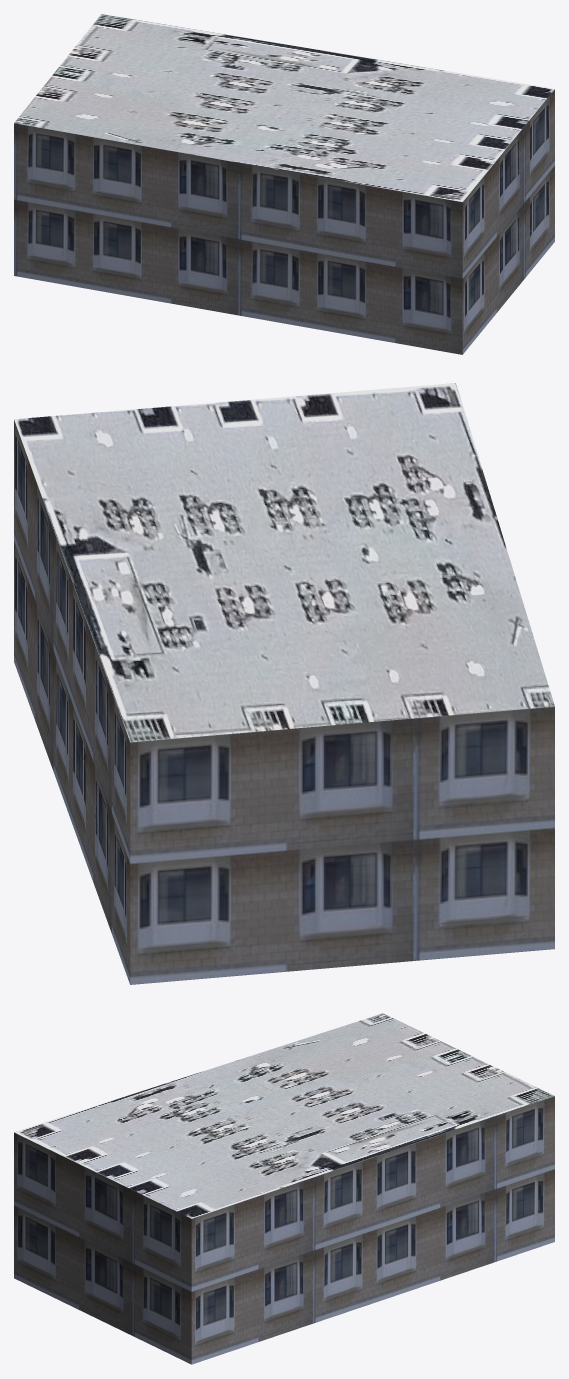
File: ResTex__1581.fbx
3 renders of one model, top to bottom at view 1: azimuth 30°, elevation 25°; view 2: azimuth 150°, elevation 25°; view 3: azimuth 270°, elevation 25°, orthographic. The views are drawn at different scales.
Parts seen in each view (by area): view 1: CityEngineMaterial_3_m, CityEngineMaterial_m; view 2: CityEngineMaterial_m, CityEngineMaterial_3_m; view 3: CityEngineMaterial_3_m, CityEngineMaterial_m.
Part boxes in pixels (<box>): CityEngineMaterial_3_m: <box>14,89,554,354</box>; CityEngineMaterial_m: <box>14,14,554,201</box>; CityEngineMaterial_m: <box>14,383,554,742</box>; CityEngineMaterial_3_m: <box>14,420,554,984</box>; CityEngineMaterial_3_m: <box>14,1096,554,1364</box>; CityEngineMaterial_m: <box>14,1013,554,1218</box>.
Bounding box in the file's own units: 18.12 × 6 × 20.16.
Materials: 2 (2 with a texture image).
